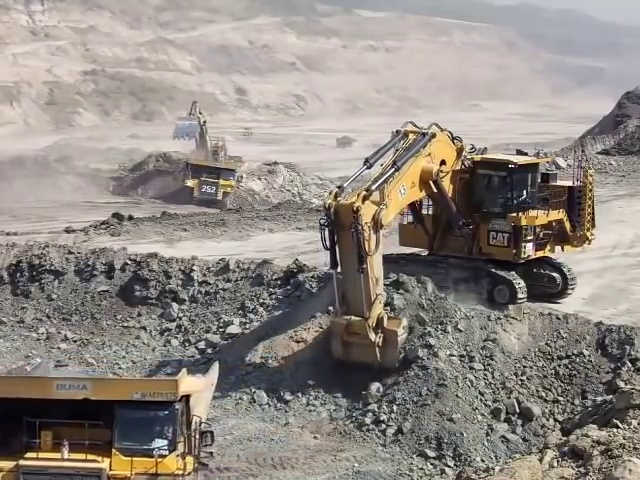dumper: (3, 357, 224, 480)
excavator: (318, 120, 596, 369), (173, 95, 242, 210)
